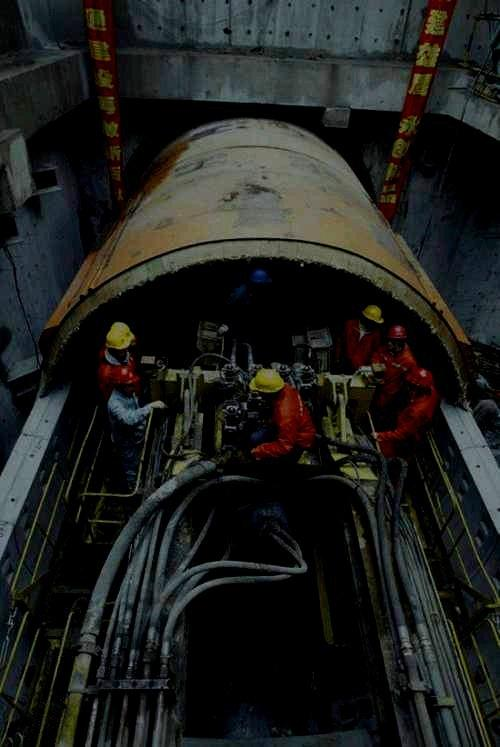helmet: (249, 368, 285, 401), (109, 364, 139, 397), (404, 366, 433, 396), (104, 328, 131, 359), (386, 325, 408, 352), (362, 305, 384, 329), (110, 322, 135, 343)
